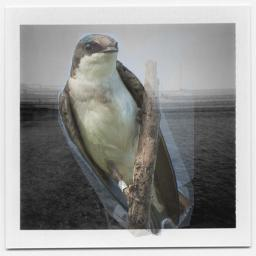Swallow: (58, 33, 194, 238)
